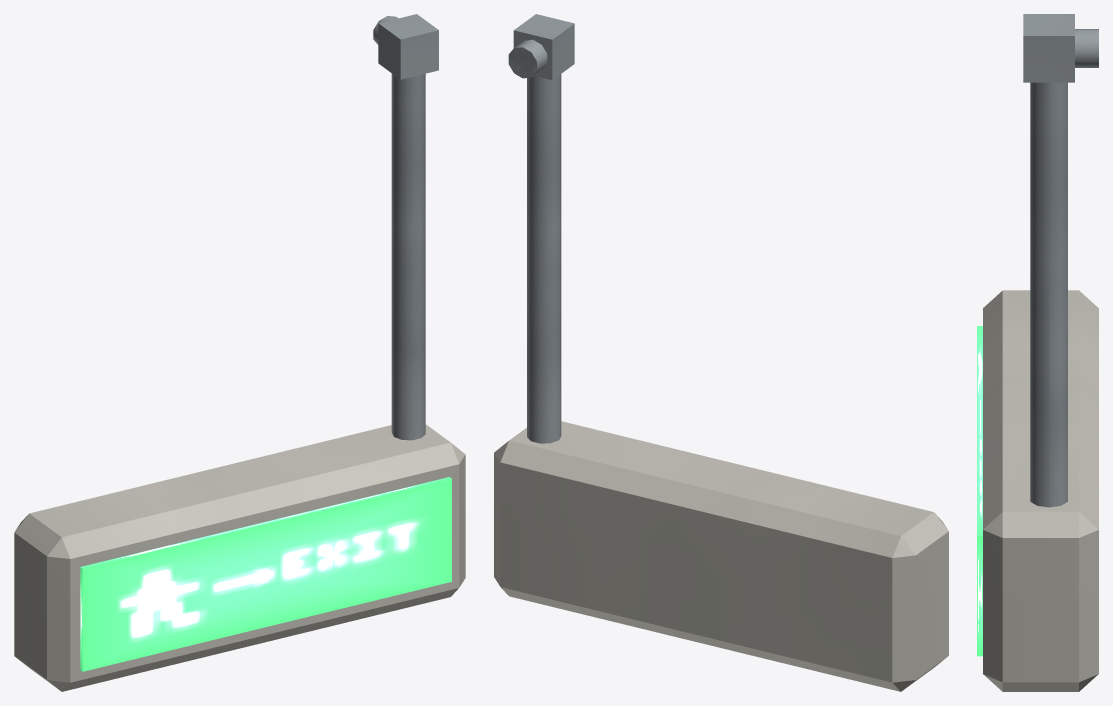
File: exit_prison.fbx
3 views of the same model, side by side, from view 1: azimuth 30°, elevation 25°; view 2: azimuth 150°, elevation 25°; view 3: azimuth 270°, elevation 25° (orthographic). The views are drawn at different scales.
Visible parts, largest first — view 1: exit_prison, exit_prison_lens; view 2: exit_prison; view 3: exit_prison, exit_prison_lens.
Boxes of the visible parts, box(x1,y1,x2,y2) form: exit_prison: box(14, 14, 465, 691); exit_prison_lens: box(80, 477, 451, 671); exit_prison: box(494, 14, 948, 691); exit_prison: box(983, 14, 1098, 691); exit_prison_lens: box(977, 326, 982, 656).
Size of the model in its own units: 0.34 by 0.4356 by 0.0735.
1 material, 1 textured.
